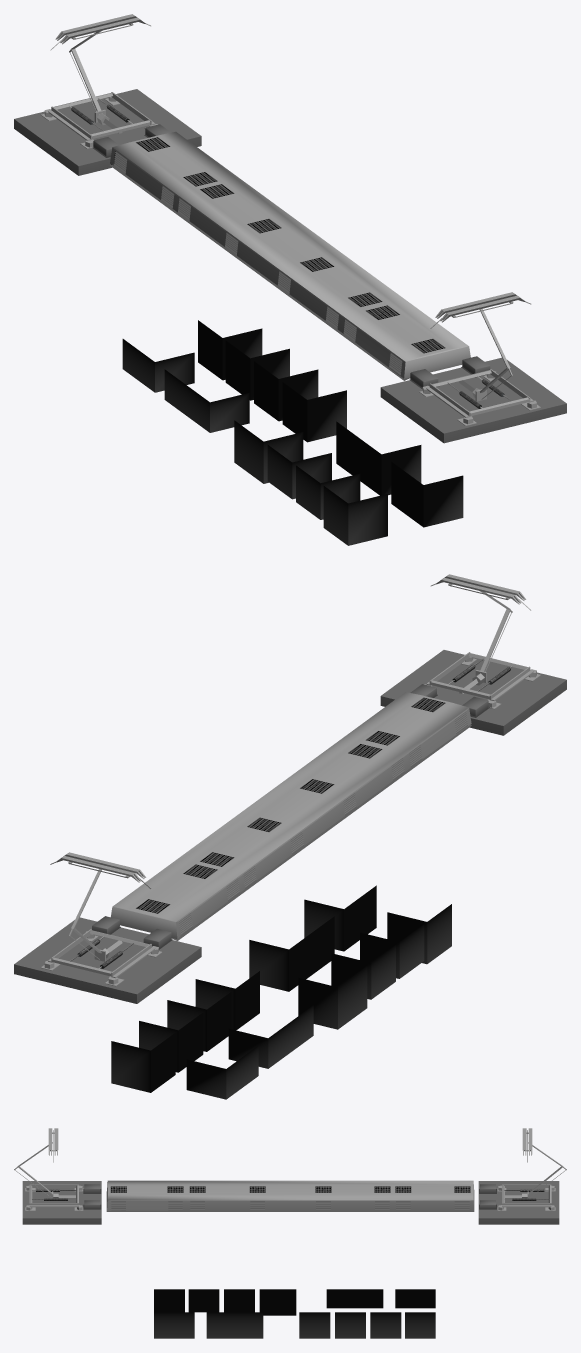
The model's file is H8200_PANTA00.glb.
3 renders of one model, top to bottom at view 1: azimuth 30°, elevation 25°; view 2: azimuth 150°, elevation 25°; view 3: azimuth 270°, elevation 25°, orthographic. The views are drawn at different scales.
Parts seen in each view (by area): view 1: ARM; view 2: ARM; view 3: ARM.
Boxes of the visible parts, x1=… form: ARM: x1=14, y1=14, x2=566, y2=545; ARM: x1=14, y1=574, x2=566, y2=1099; ARM: x1=14, y1=1128, x2=566, y2=1338.
Size of the model in its own units: 5.55 by 12.26 by 34.08.
Materials: 16 (16 with a texture image).
